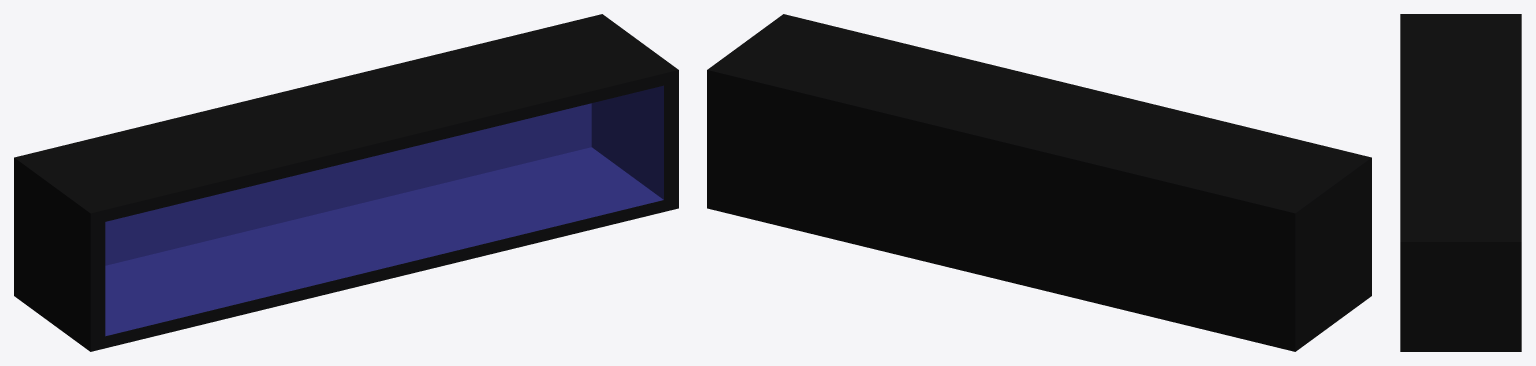
File: TV_stand.fbx
3 renders of one model, left to right at view 1: azimuth 30°, elevation 25°; view 2: azimuth 150°, elevation 25°; view 3: azimuth 270°, elevation 25°, orthographic. The views are drawn at different scales.
Parts seen in each view (by area): view 1: TV_Stand; view 2: TV_Stand; view 3: TV_Stand.
Boxes of the visible parts, x1,y1,x2,y2 form: TV_Stand: [14, 14, 678, 351]; TV_Stand: [707, 14, 1371, 351]; TV_Stand: [1400, 14, 1521, 351].
Size of the model in its own units: 200 by 45 by 45.
